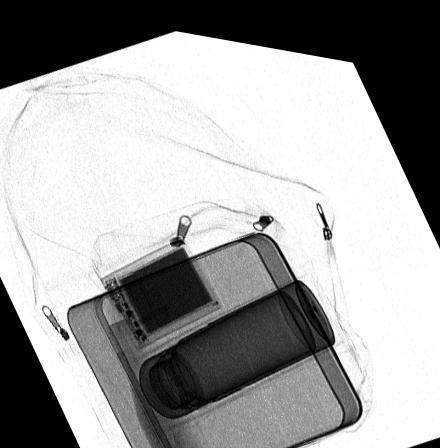Powerbank: (97, 230, 221, 347)
